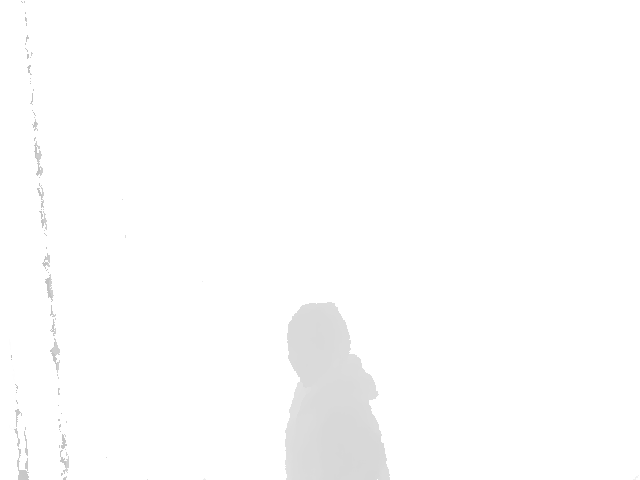head: (285, 302, 352, 383)
person: (284, 302, 393, 480)
